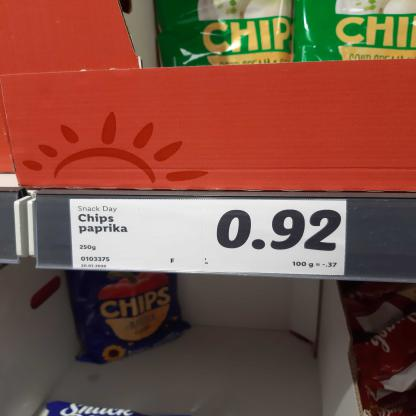prtg: (71, 200, 347, 276)
